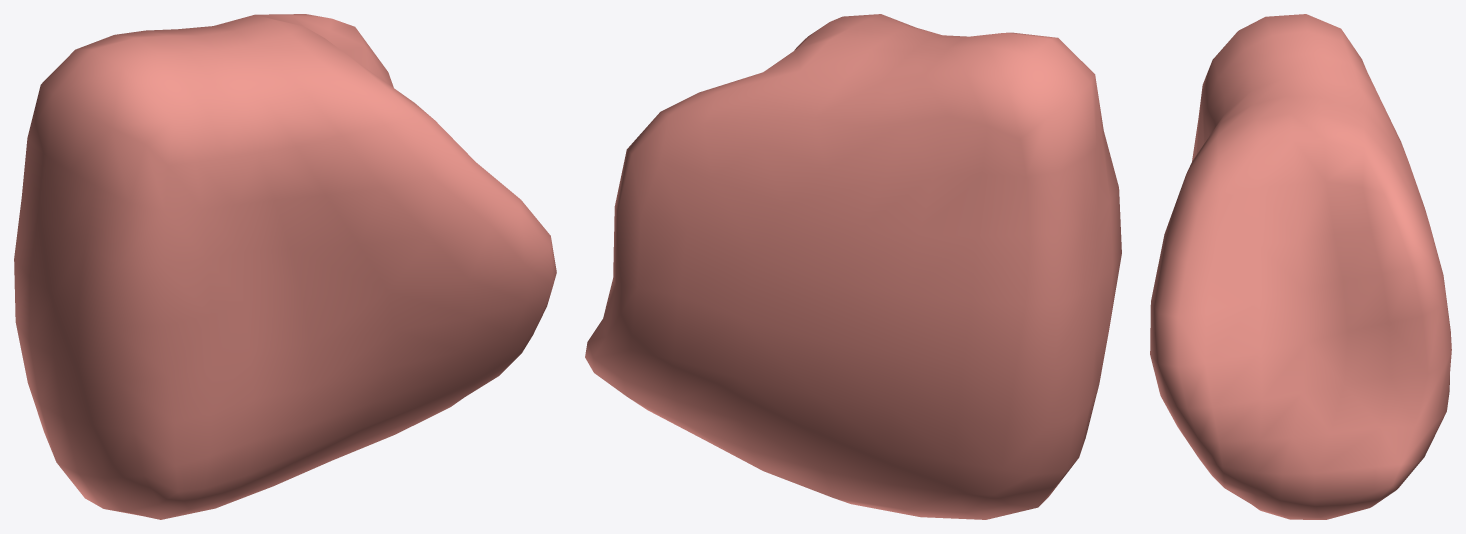
Rendered from mixamo_humanoid_surface_rightHand.fbx.
3 views of the same model, side by side, from view 1: azimuth 30°, elevation 25°; view 2: azimuth 150°, elevation 25°; view 3: azimuth 270°, elevation 25° (orthographic). The views are drawn at different scales.
Visible parts, largest first — view 1: surface_RightHand; view 2: surface_RightHand; view 3: surface_RightHand.
Part boxes in pixels (x1,y1,x2,y2): surface_RightHand: (14, 14, 556, 519); surface_RightHand: (585, 14, 1121, 519); surface_RightHand: (1150, 14, 1451, 519).
Bounding box in the file's own units: 9.86 × 9.88 × 6.6.
